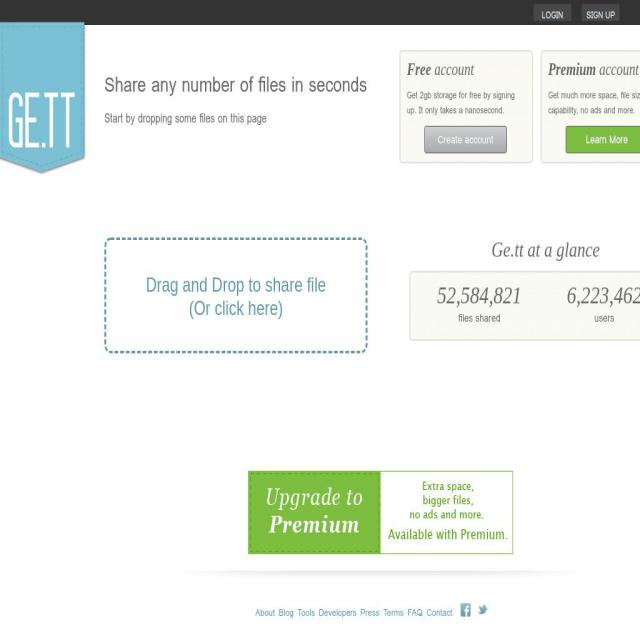button: (0, 22, 86, 174), (458, 601, 473, 619), (475, 601, 489, 619)
heading: (104, 67, 640, 101), (548, 60, 596, 78), (431, 60, 474, 78), (596, 60, 638, 78), (407, 60, 431, 78)
image: (0, 22, 640, 174), (248, 471, 513, 554), (174, 559, 585, 587), (460, 603, 471, 617), (477, 603, 487, 617)
link: (318, 604, 357, 620), (426, 604, 453, 620), (255, 604, 275, 620), (384, 604, 404, 620), (360, 604, 379, 620), (297, 604, 315, 620), (278, 604, 294, 620), (407, 604, 422, 620)
text: (409, 237, 640, 271), (146, 273, 327, 296), (406, 88, 526, 118), (417, 281, 542, 309), (104, 109, 267, 128), (548, 88, 640, 118), (542, 281, 640, 309), (417, 309, 542, 327), (424, 126, 507, 153), (188, 297, 284, 319), (565, 126, 640, 153), (542, 309, 640, 327), (0, 199, 86, 216), (581, 3, 620, 22), (533, 3, 572, 22)
